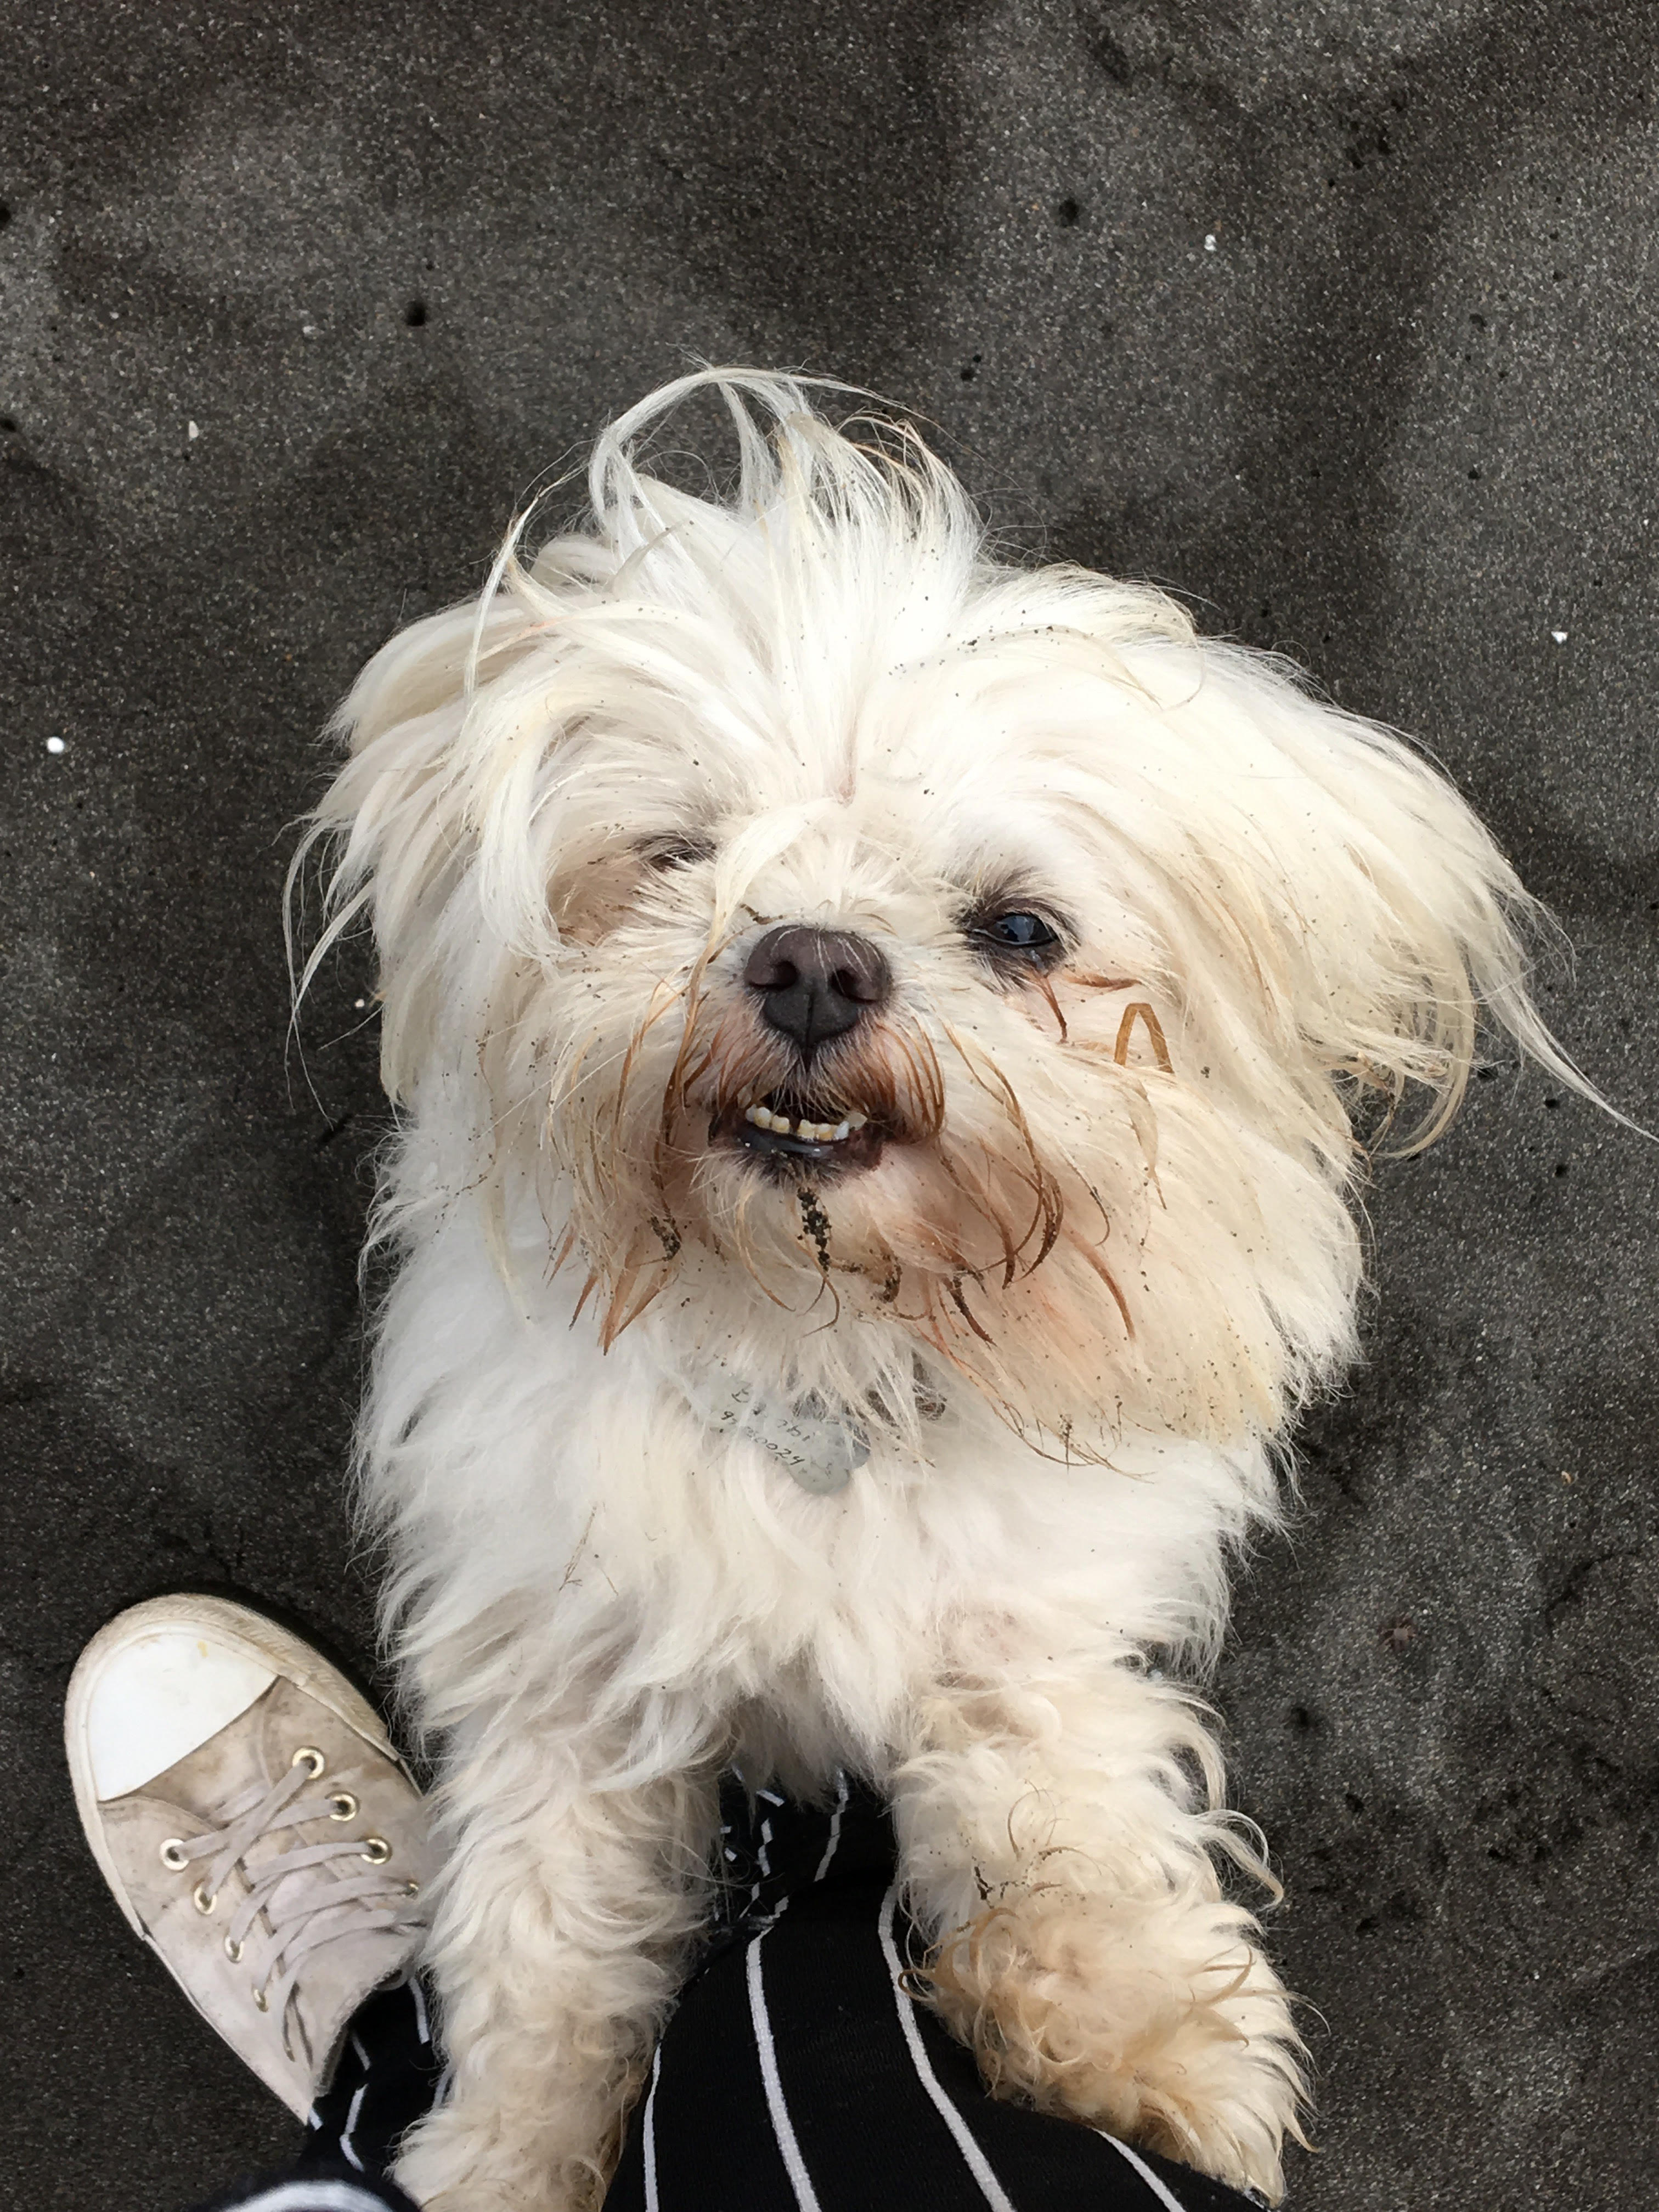bambi: (281, 357, 1659, 2212)
